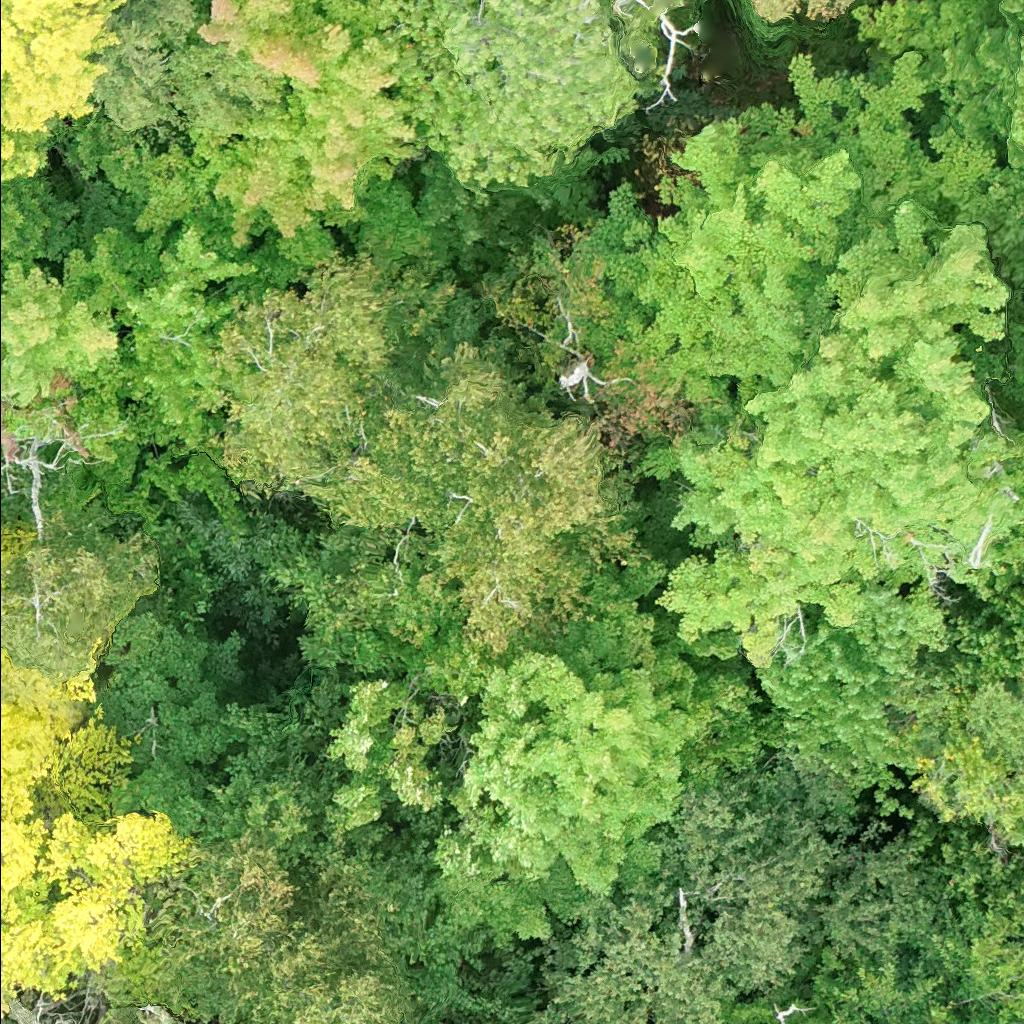crown: (632, 197, 1023, 669), (324, 561, 772, 943), (564, 48, 999, 430), (539, 751, 947, 1023), (210, 242, 479, 491), (107, 825, 415, 1023), (427, 406, 645, 662), (186, 27, 427, 248), (363, 0, 640, 189), (293, 330, 531, 533), (783, 828, 1023, 1023), (71, 219, 263, 462), (0, 809, 211, 1019), (849, 0, 1023, 246), (264, 519, 462, 674), (886, 568, 1023, 788), (0, 496, 160, 681), (756, 621, 913, 802), (86, 0, 287, 139), (0, 638, 131, 831), (95, 608, 248, 764), (0, 0, 129, 183), (0, 249, 119, 405), (196, 0, 394, 89), (0, 171, 81, 280), (0, 370, 87, 457), (755, 0, 857, 24), (720, 995, 776, 1023), (0, 527, 35, 565), (133, 1006, 180, 1023), (0, 599, 1, 609)
